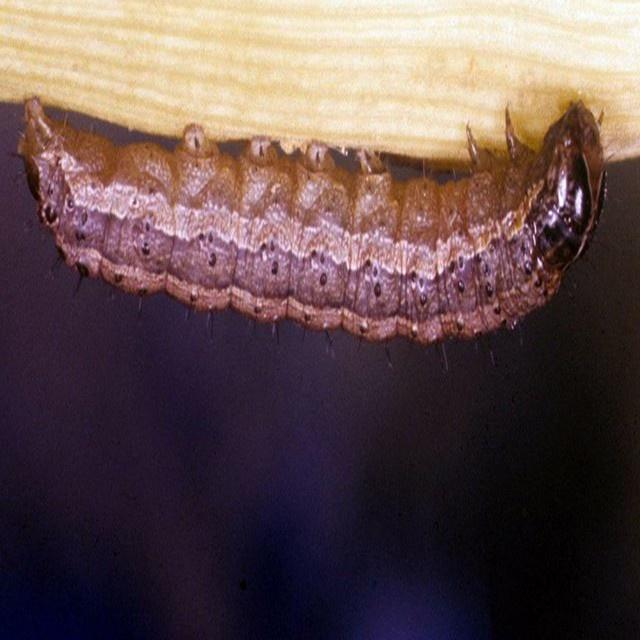gusano_cogollero: (19, 83, 602, 345)
